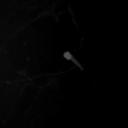fish: (63, 50, 84, 70)
